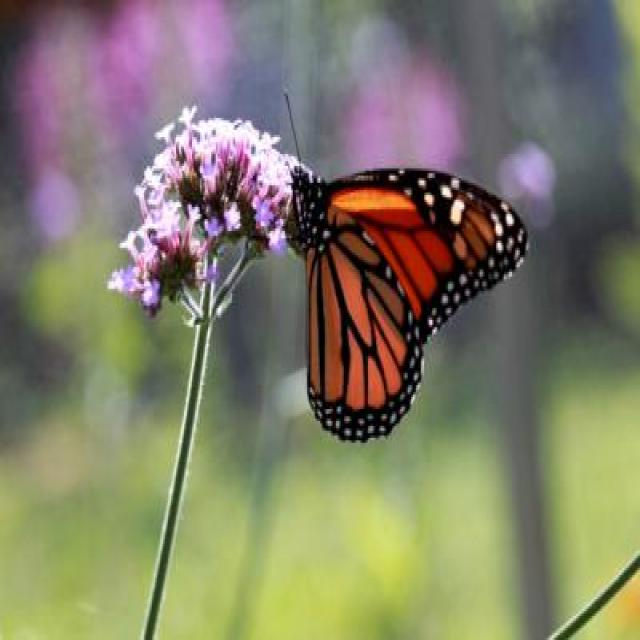antennae: (285, 91, 320, 176)
body: (287, 160, 326, 242)
insect: (279, 80, 530, 446)
wings: (305, 163, 526, 443)
